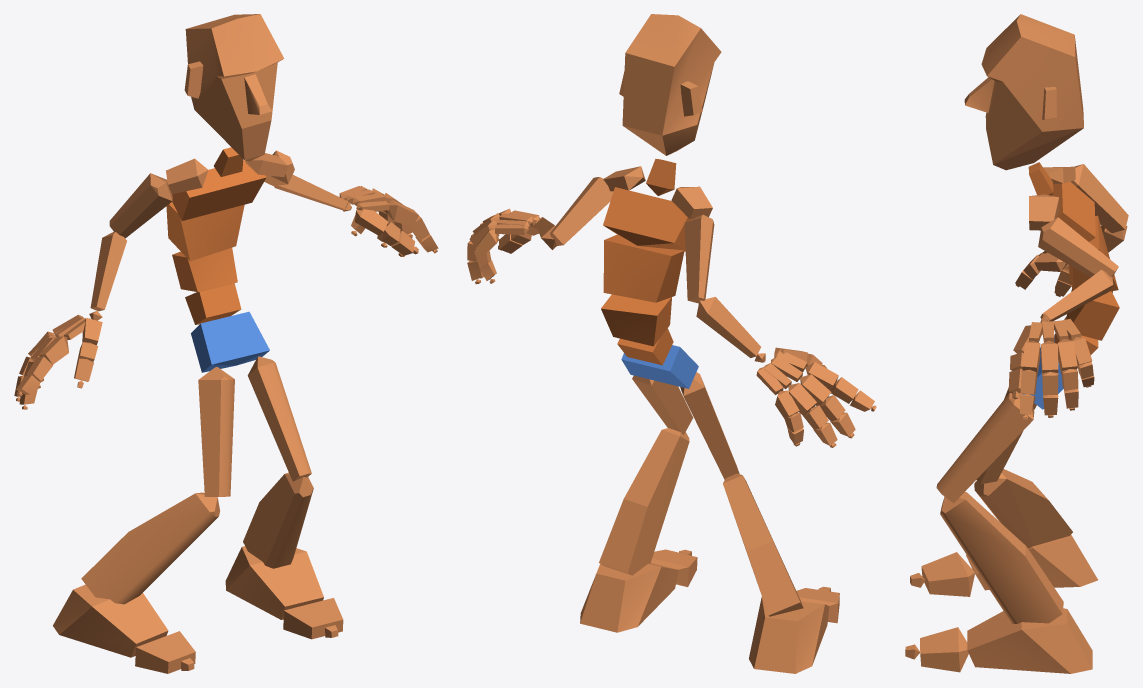
File: prueba127.obj
The picture shows the model from 3 angles, left to right: view 1: azimuth 30°, elevation 25°; view 2: azimuth 150°, elevation 25°; view 3: azimuth 270°, elevation 25°; orthographic projection. The views are drawn at different scales.
Parts seen in each view (by area): view 1: BOPED_Head, BOPED_R_leg, BOPED_R_foot, BOPED_R_foot01, BOPED_L_leg, BOPED_R_legup, BOPED_L_legup, Bone01, Bone04, Bone05, BOPED_R_arm_upper, Bone03 (+8 smaller); view 2: BOPED_Head, BOPED_L_leg, BOPED_R_foot01, BOPED_R_foot, BOPED_R_leg, Bone04, Bone05, Bone03, BOPED_R_legup, BOPED_R_arm_upper, BOPED_L_arm_upper, Bone01 (+8 smaller); view 3: BOPED_Head, BOPED_L_leg, BOPED_R_foot01, BOPED_R_leg, BOPED_L_legup, BOPED_R_foot, BOPED_L_arm_upper, BOPED_R_foot_toe01, BOPED_R_foot_toe04, Bone05, BOPED_R_arm_upper, Bone03 (+15 smaller).
Boxes of the visible parts, left/top/right/bottom form: BOPED_Head: left=184, top=14, right=284, bottom=161; BOPED_R_leg: left=81, top=492, right=219, bottom=604; BOPED_R_foot: left=53, top=584, right=168, bottom=657; BOPED_R_foot01: left=225, top=546, right=323, bottom=619; BOPED_L_leg: left=243, top=472, right=313, bottom=568; BOPED_R_legup: left=198, top=367, right=234, bottom=496; BOPED_L_legup: left=247, top=356, right=311, bottom=481; Bone01: left=191, top=311, right=269, bottom=372; Bone04: left=166, top=202, right=244, bottom=261; Bone05: left=172, top=160, right=266, bottom=220; BOPED_R_arm_upper: left=109, top=173, right=172, bottom=238; Bone03: left=172, top=247, right=237, bottom=291; BOPED_Head: left=619, top=14, right=721, bottom=155; BOPED_L_leg: left=599, top=428, right=689, bottom=575; BOPED_R_foot01: left=580, top=563, right=678, bottom=632; BOPED_R_foot: left=749, top=597, right=829, bottom=673; BOPED_R_leg: left=723, top=473, right=803, bottom=616; Bone04: left=603, top=234, right=684, bottom=302; Bone05: left=603, top=187, right=691, bottom=251; Bone03: left=601, top=294, right=671, bottom=346; BOPED_R_legup: left=680, top=372, right=739, bottom=479; BOPED_R_arm_upper: left=684, top=214, right=714, bottom=303; BOPED_L_arm_upper: left=550, top=177, right=613, bottom=245; Bone01: left=621, top=345, right=698, bottom=388; BOPED_Head: left=964, top=14, right=1083, bottom=170; BOPED_L_leg: left=940, top=492, right=1063, bottom=623; BOPED_R_foot01: left=967, top=608, right=1092, bottom=673; BOPED_R_leg: left=974, top=469, right=1072, bottom=548; BOPED_L_legup: left=936, top=392, right=1034, bottom=502; BOPED_R_foot: left=966, top=534, right=1097, bottom=590; BOPED_L_arm_upper: left=1038, top=217, right=1118, bottom=277; BOPED_R_foot_toe01: left=921, top=552, right=975, bottom=596; BOPED_R_foot_toe04: left=920, top=627, right=968, bottom=672; Bone05: left=1052, top=181, right=1095, bottom=241; BOPED_R_arm_upper: left=1070, top=164, right=1128, bottom=233; Bone03: left=1067, top=289, right=1119, bottom=340.
Bounding box in the file's own units: 130 × 179 × 58.84.
